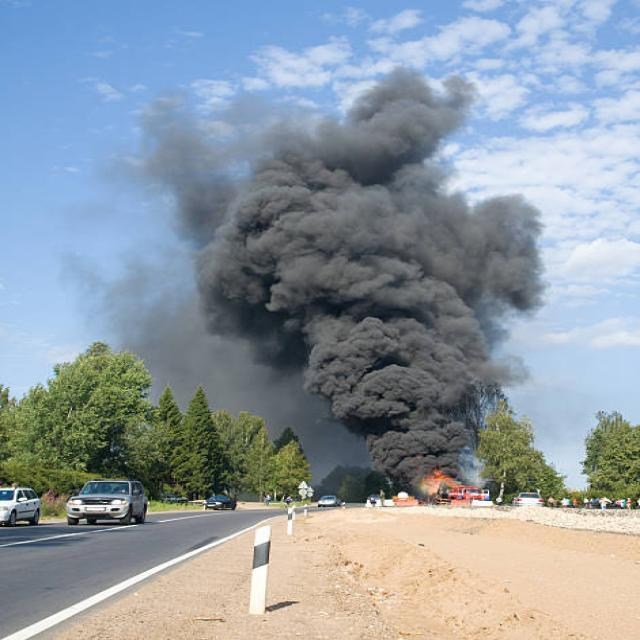Fire: (422, 470, 458, 496)
Smoke: (78, 71, 550, 482)
